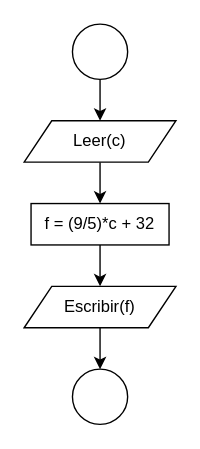
Some shapes in this 200 by 449 pixel diagram are drawn without their labels. The shapes that lost their labels are listed below. From the top down, each one's centre as x and y in pixels, then its label:
At pixel 99 51: "Inicio".
At pixel 99 396: "Fin".
